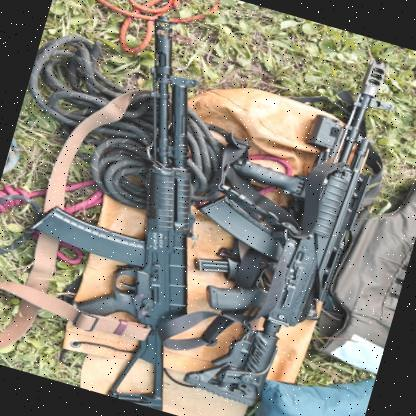rifle: (0, 0, 244, 403), (173, 27, 416, 416)
